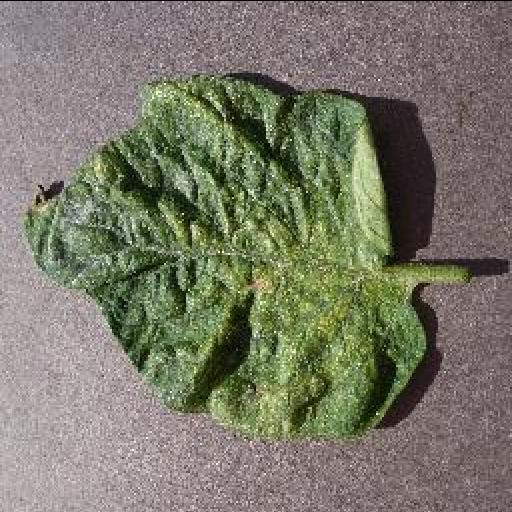disease_tomato: (24, 72, 430, 434)
